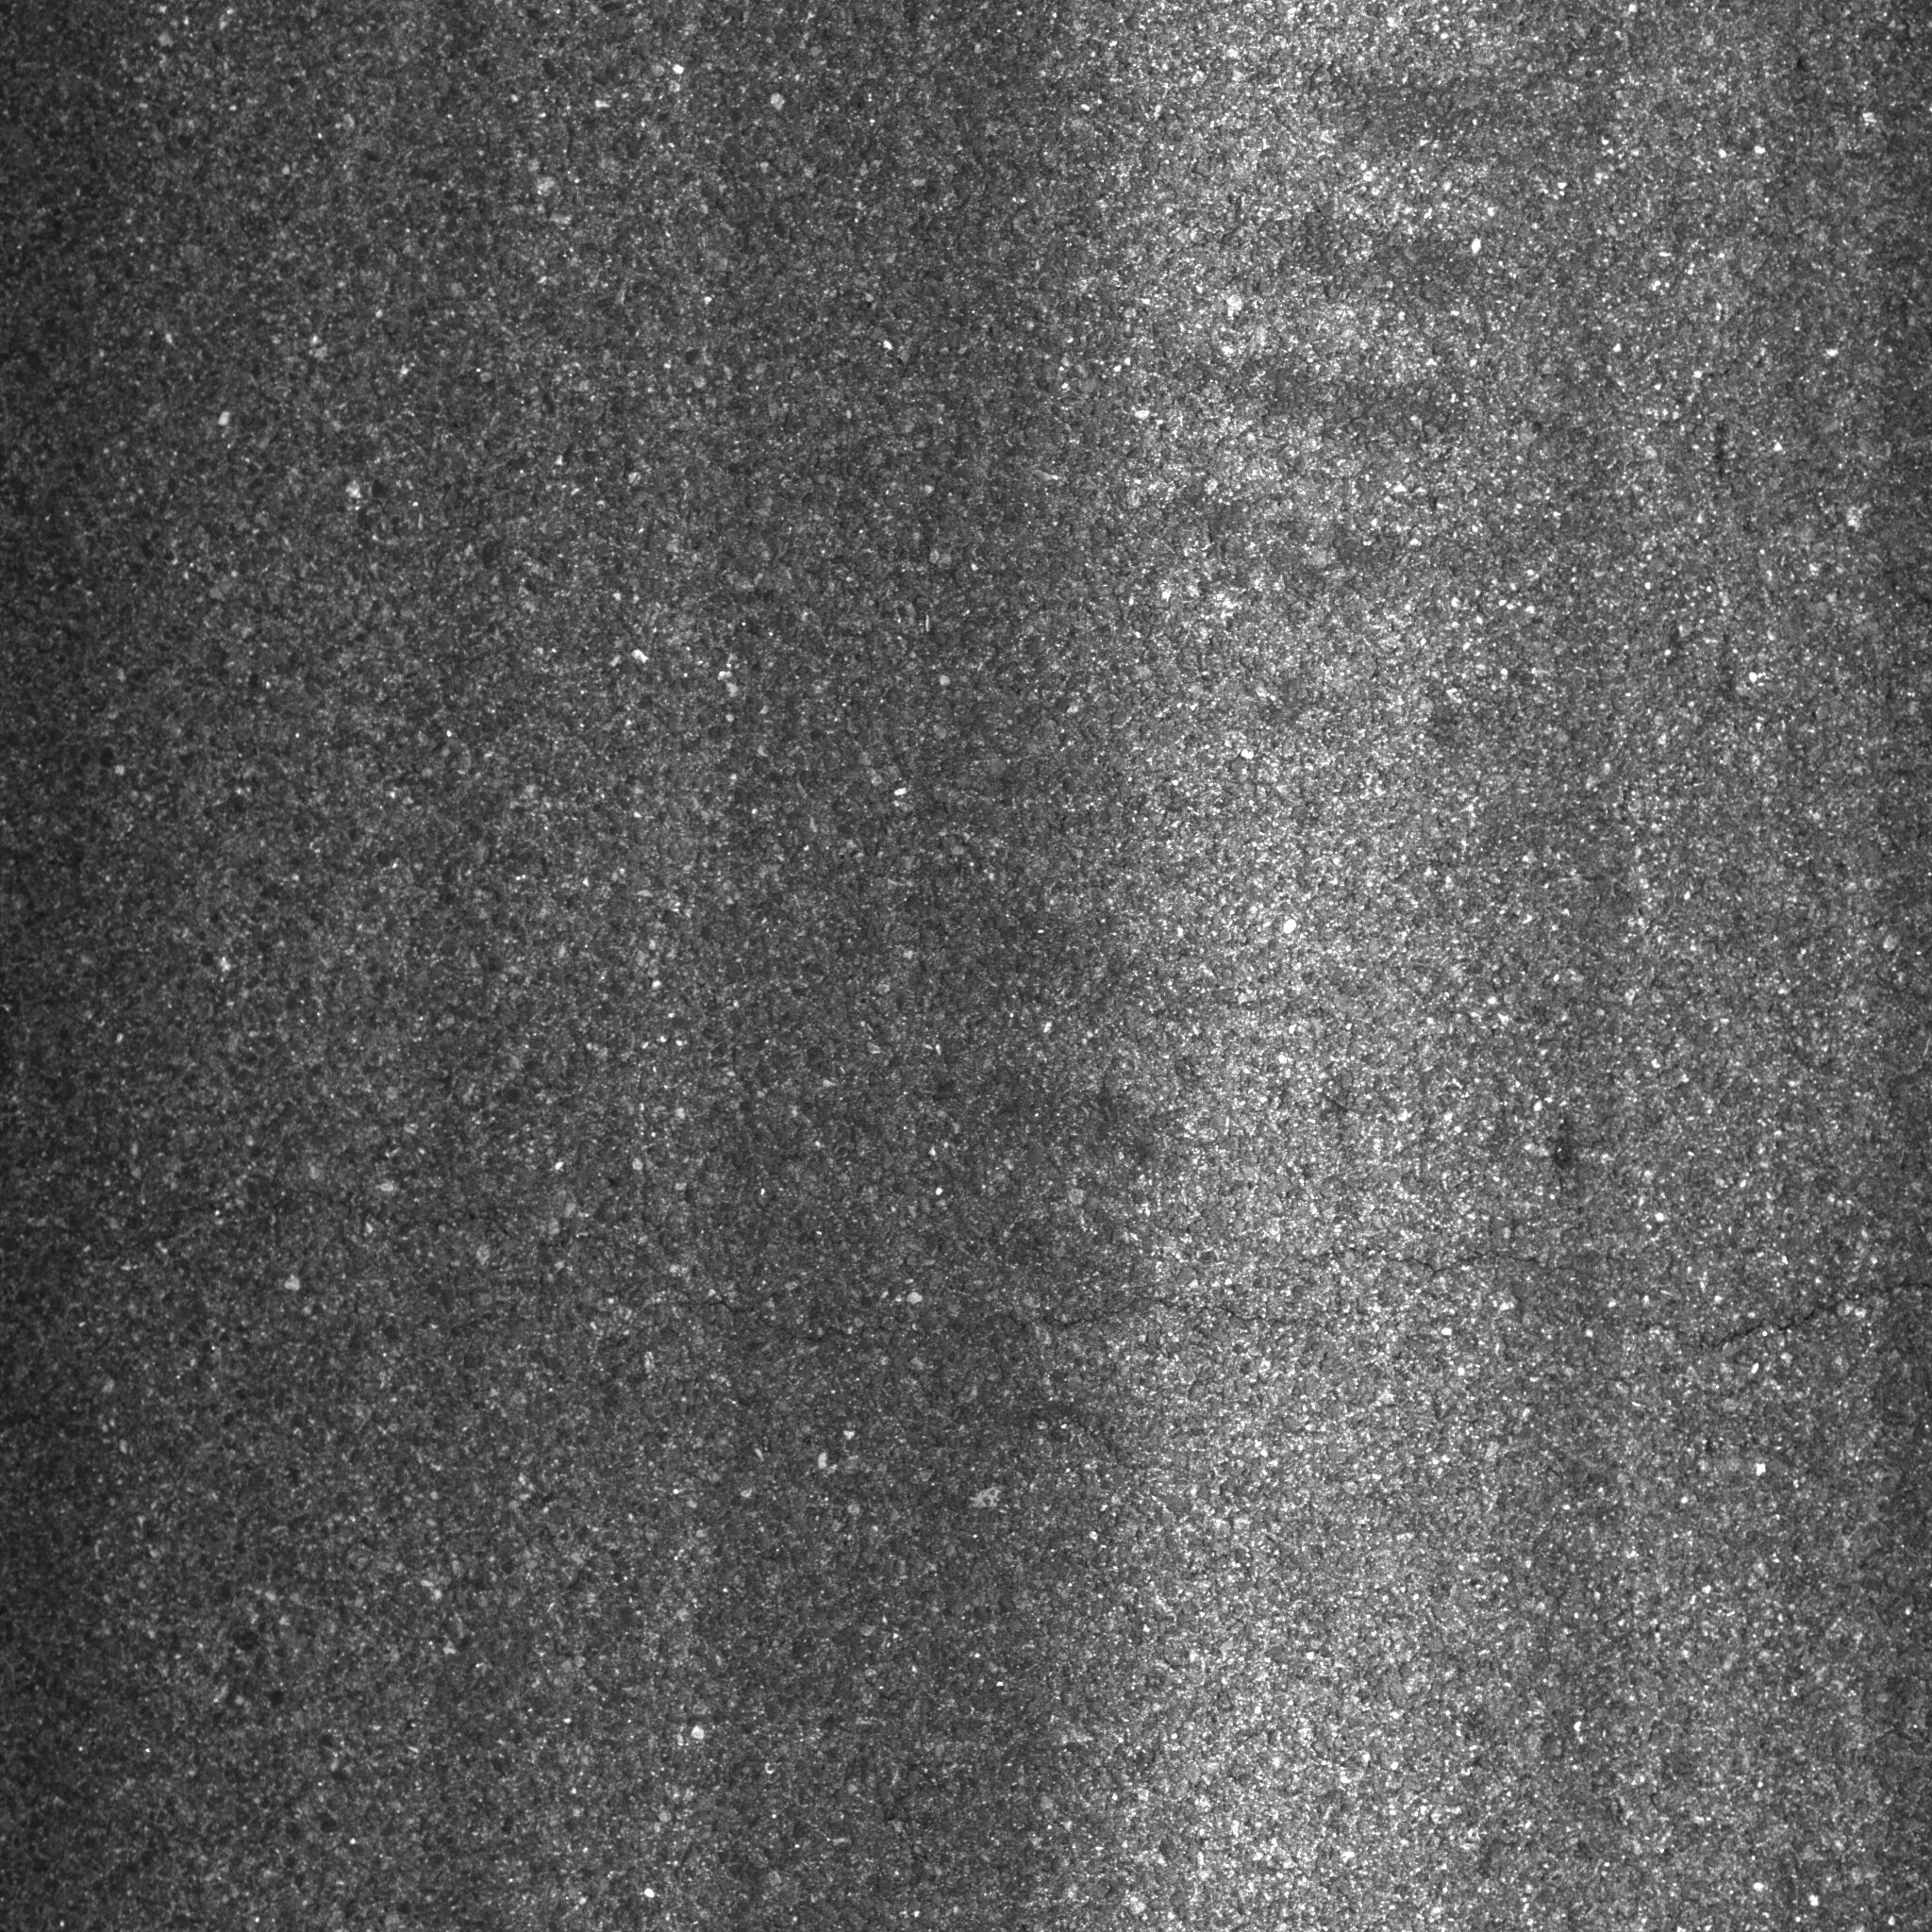transverse: (115, 1161, 1914, 1422)
